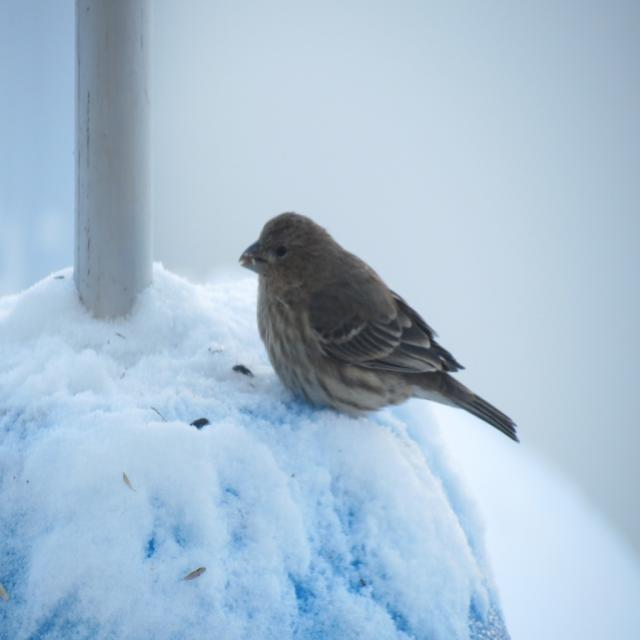bird: (236, 210, 522, 447)
